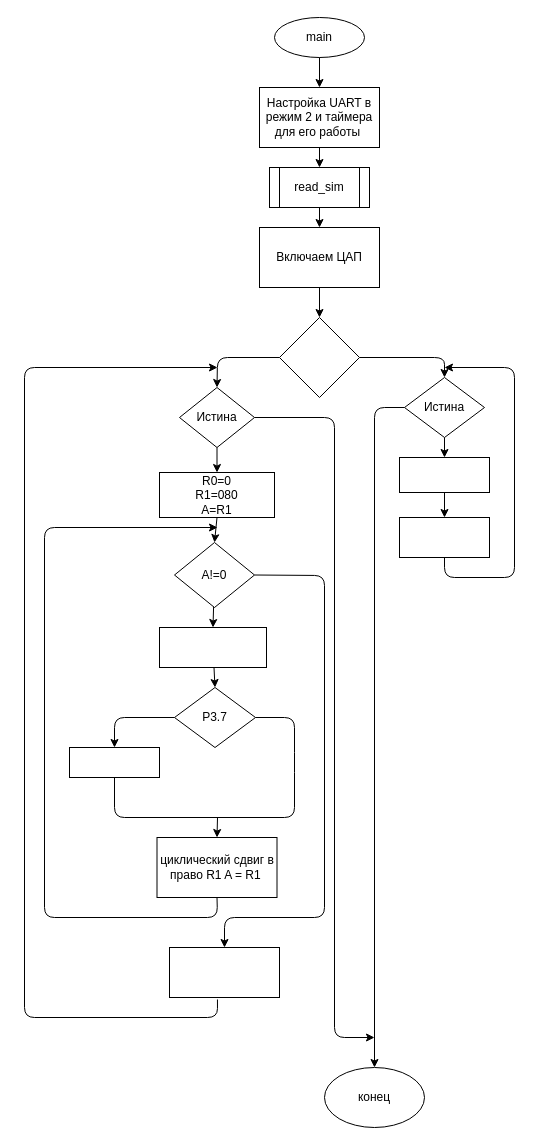
Some shapes in this 540 by 1145 pixel diagram are drawn without their labels. Here are the shapes that lost their labels. From the top down, the centre of each, then its label:
At point 319,357: "DPL==0".
At point 444,474: "P1=DPTR".
At point 444,537: "Inc DPTR".
At point 212,647: "A=A or R0 P1 = A".
At point 114,762: "R0 = A".
At point 224,972: "Вывод А в ЦАП и UART".
